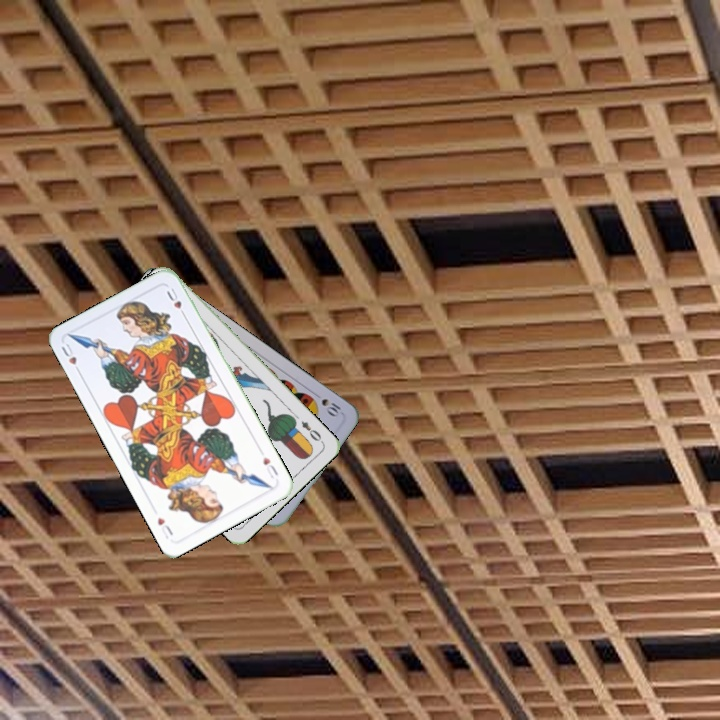EO: (297, 416, 324, 444)
HU: (57, 339, 83, 377), (259, 453, 281, 481)
S10: (309, 388, 346, 420)
